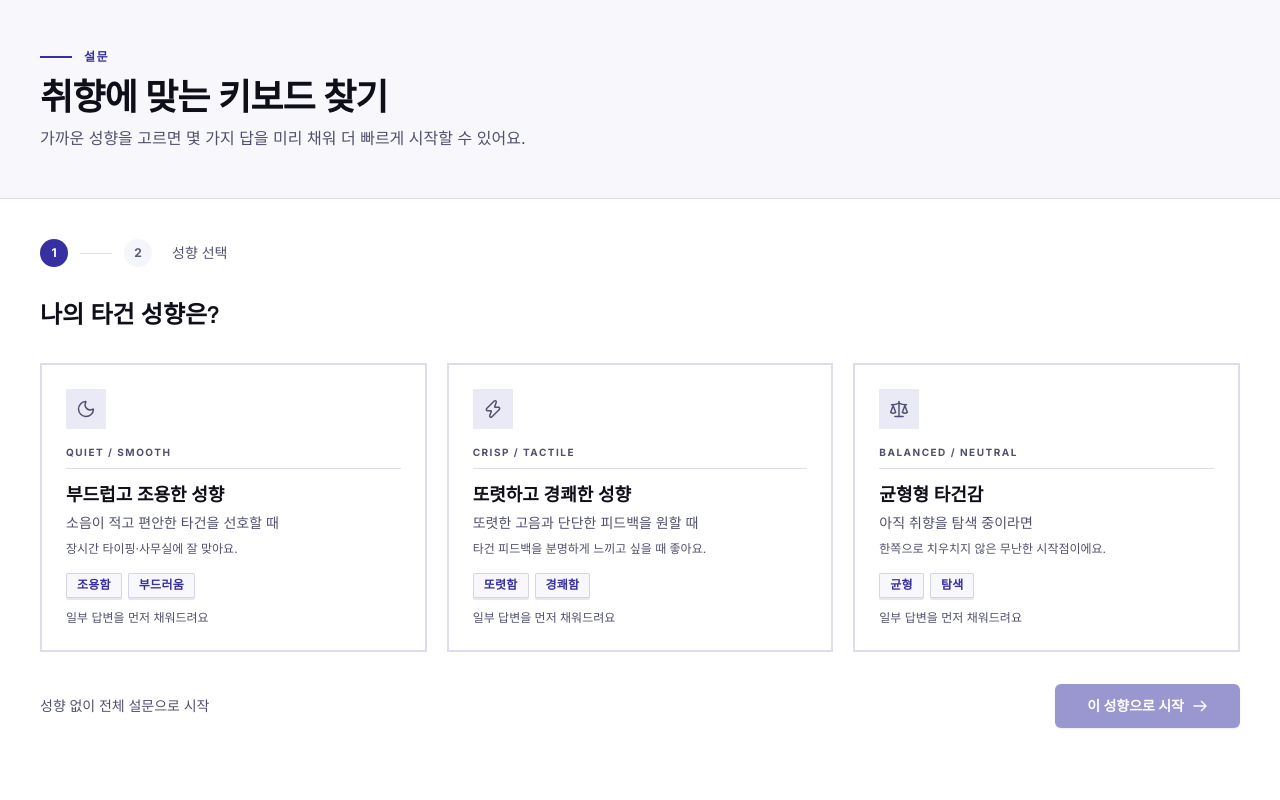
Test: SurveyWizard Pass 2 (action hierarchy · NL · loading copy) › hides secondary reset actions until details is opened
The image size is (1280, 800).
Click the button "부드럽고 조용한 성향".
click(86, 409)  # box [40, 363, 427, 652]
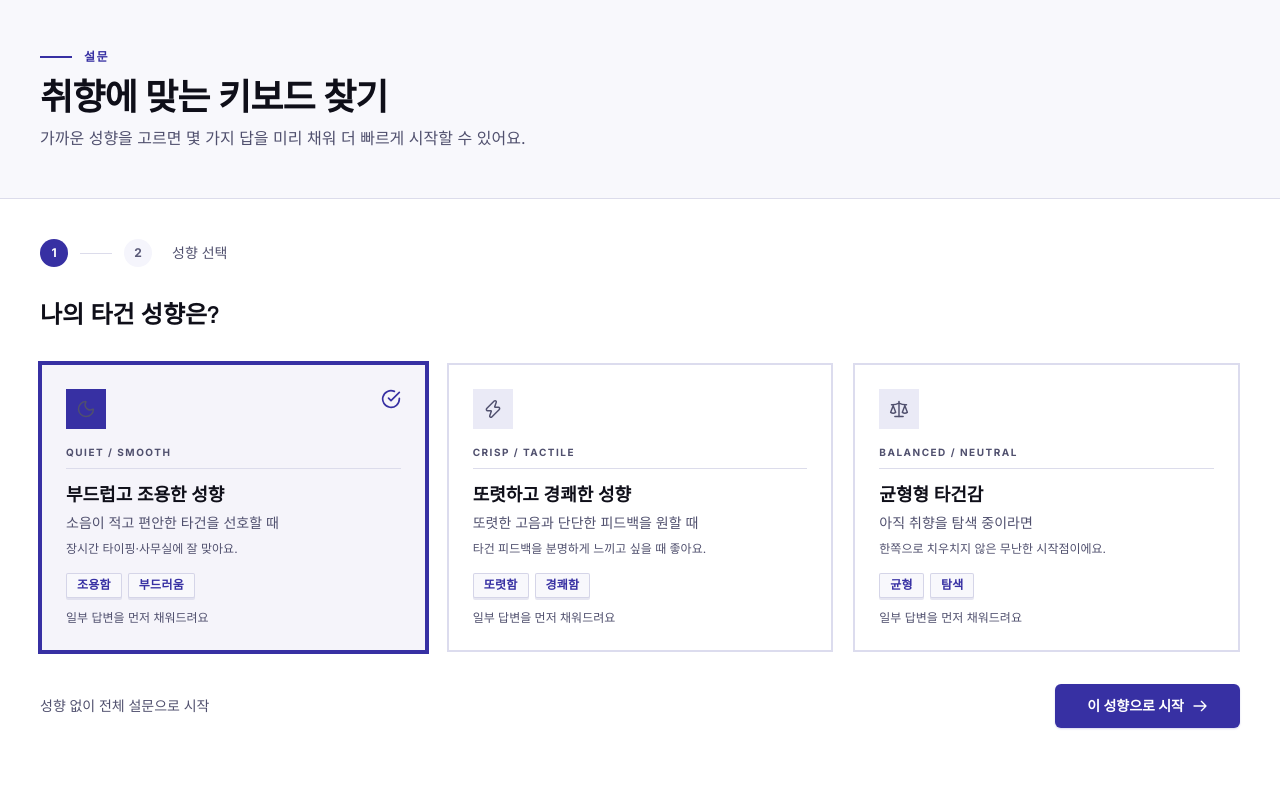
Click the button with test id "e2e-survey-start-with-style".
click(1148, 706)  # box [1055, 684, 1240, 728]
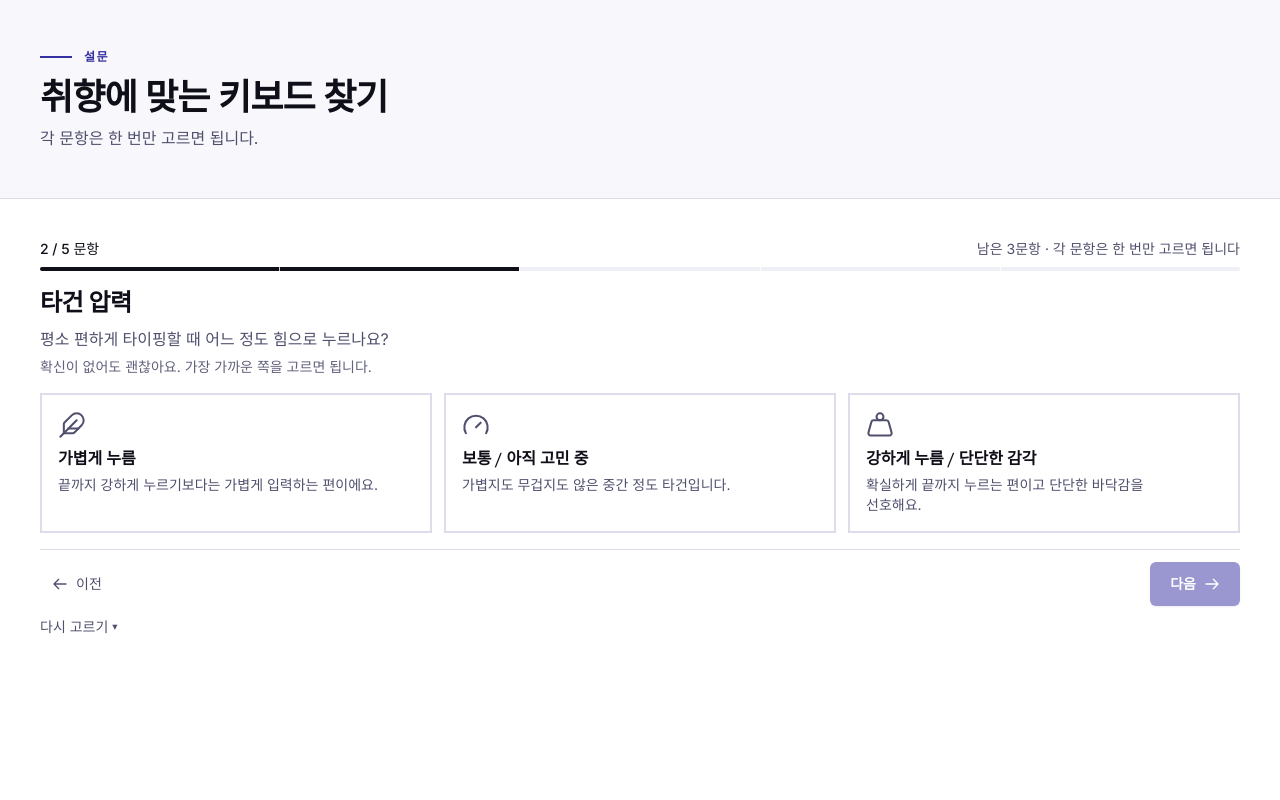
Expected: the button "스타일 선택으로" is not shown
Expected: the button "다음" is shown, [1150, 562, 1240, 606]
Expected: the button "이전" is shown, [40, 566, 114, 602]
Click the button "다시 고르기 ▾".
click(79, 627)  # box [40, 617, 118, 637]
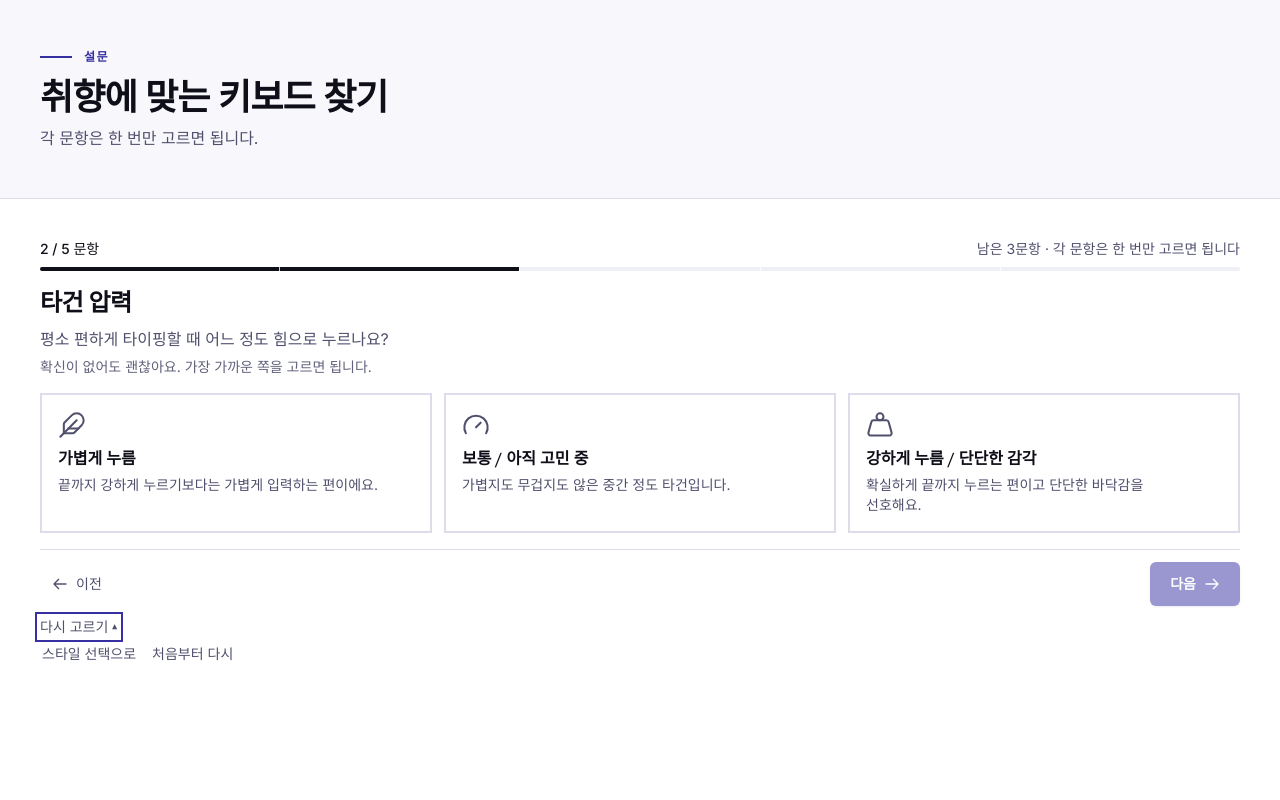
Expected: the button "스타일 선택으로" is shown, [42, 644, 136, 664]
Expected: the button "처음부터 다시" is shown, [152, 644, 233, 664]
